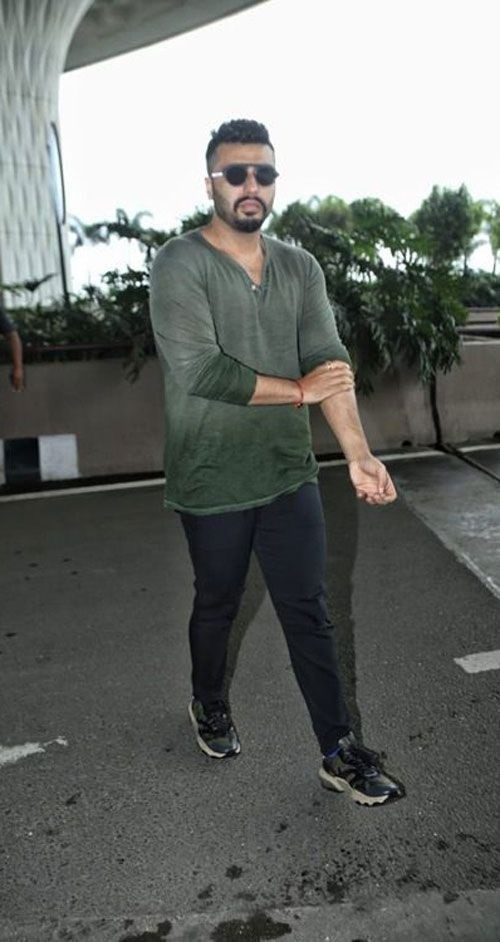face_no_mask: (206, 124, 280, 238)
